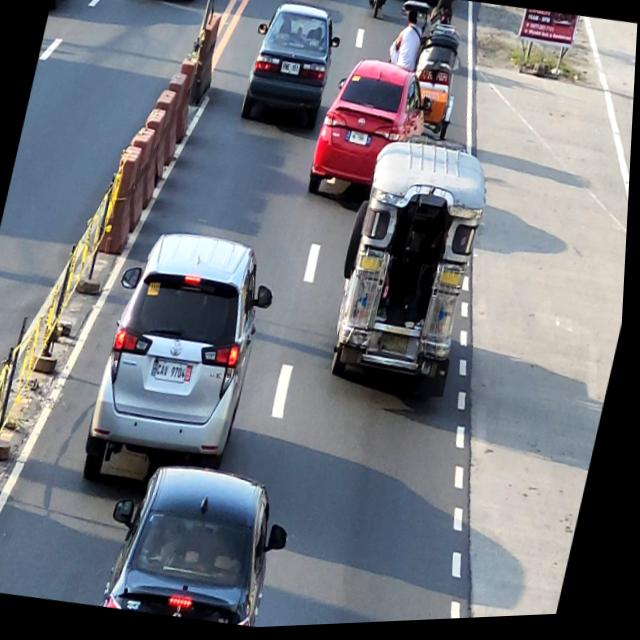Car: (80, 221, 289, 506), (97, 452, 308, 636), (307, 53, 441, 212), (237, 0, 348, 140), (124, 0, 208, 9)
Jeep: (322, 134, 499, 405)
License-Plate: (157, 359, 192, 386), (383, 335, 413, 360), (279, 62, 301, 79), (349, 134, 369, 149)
Tricycle: (375, 1, 477, 146)
